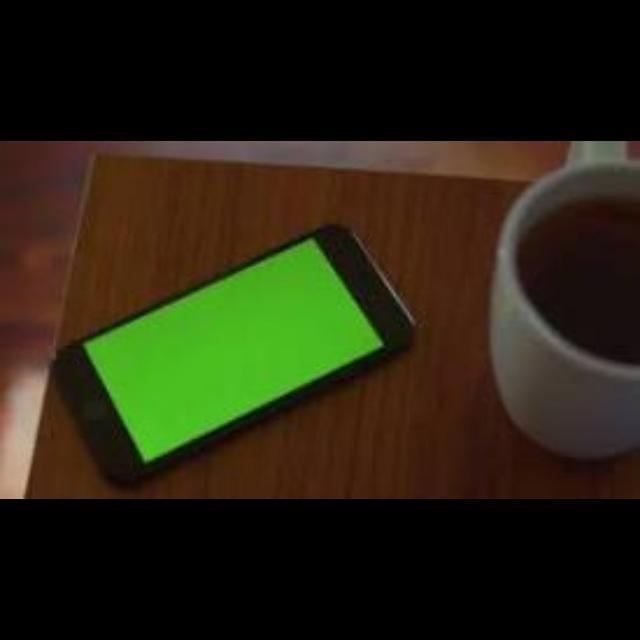PhoneUse: (54, 222, 426, 478)
